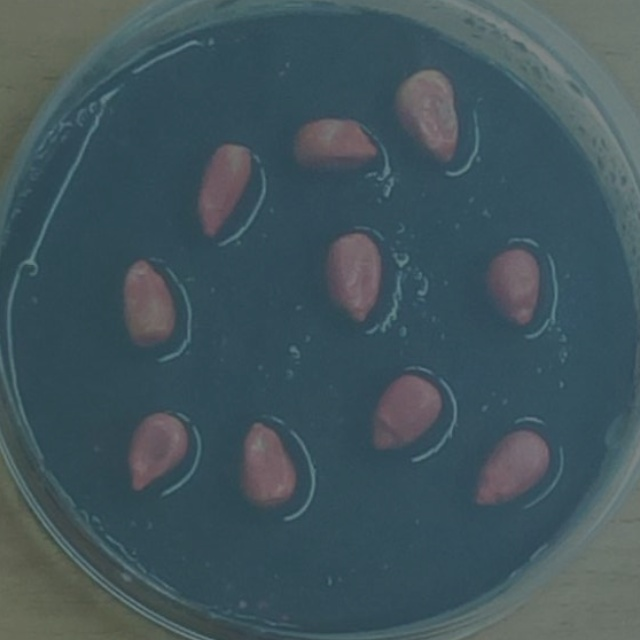Zea mays: (383, 63, 464, 175), (465, 423, 558, 518), (188, 136, 266, 247), (361, 365, 448, 461), (315, 224, 389, 334), (281, 110, 386, 185), (230, 414, 303, 520), (120, 406, 196, 503), (117, 251, 183, 356), (473, 240, 544, 336)
